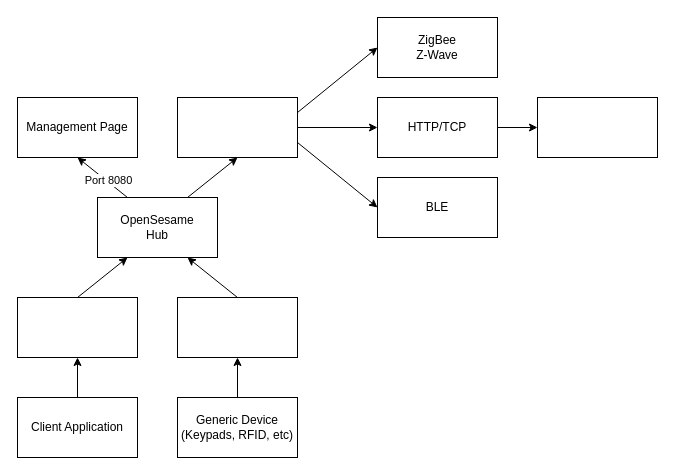
The diagram is 675 pixels wide and 475 high, and some of its shapes have lost their labels. Each missing label, with the centre of its shape:
Crestron Locks API: (597,127)
Lock/Unlock Command Handler: (237,127)
REST API: (77,327)
TCP Listener: (237,327)
